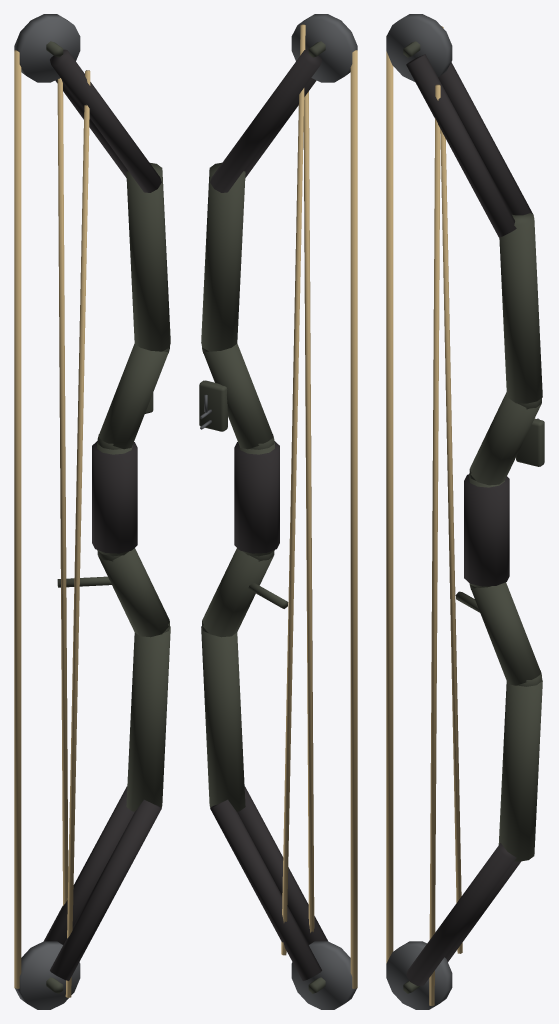
The model's file is item_compound_bow.glb.
3 renders of one model, left to right at view 1: azimuth 30°, elevation 25°; view 2: azimuth 150°, elevation 25°; view 3: azimuth 330°, elevation 25°, orthographic.
Visible parts, largest first — view 1: string, riser_0, riser_4, cable_0, cable_1, grip, limb_0_0, riser_3, limb_1_0, riser_1, cam_1, limb_0_1 (+3 smaller); view 2: string, riser_0, riser_4, cable_1, cable_0, grip, limb_0_1, limb_1_1, riser_3, riser_1, limb_0_0, cam_1 (+4 smaller); view 3: string, riser_4, riser_0, cable_0, grip, cable_1, limb_1_0, riser_1, limb_0_0, riser_3, limb_1_1, cam_1 (+3 smaller).
Part boxes in pixels (box(x1,y1,x2,y2)): string: box(14, 50, 21, 988); riser_0: box(126, 626, 170, 811); riser_4: box(126, 163, 170, 351); cable_0: box(65, 70, 90, 997); cable_1: box(57, 78, 68, 905); grip: box(92, 441, 137, 553); limb_0_0: box(50, 799, 161, 980); riser_3: box(98, 343, 168, 449); limb_1_0: box(50, 49, 161, 192); riser_1: box(98, 548, 169, 637); cam_1: box(14, 14, 80, 82); limb_0_1: box(44, 786, 134, 944); string: box(350, 50, 357, 988); riser_0: box(201, 626, 245, 811); riser_4: box(201, 162, 245, 351); cable_1: box(281, 24, 305, 955); cable_0: box(303, 91, 314, 932); grip: box(234, 441, 279, 553); limb_0_1: box(210, 799, 321, 980); limb_1_1: box(210, 49, 321, 192); riser_3: box(203, 343, 273, 449); riser_1: box(202, 548, 273, 637); limb_0_0: box(237, 786, 327, 944); cam_1: box(291, 14, 357, 82); string: box(386, 51, 393, 963); riser_4: box(499, 213, 542, 403); riser_0: box(498, 678, 542, 861); cable_0: box(429, 84, 440, 1006); grip: box(464, 474, 509, 586); cable_1: box(440, 26, 462, 953); limb_1_0: box(406, 54, 516, 237); riser_1: box(471, 582, 541, 685); limb_0_0: box(406, 843, 516, 985); riser_3: box(470, 392, 541, 485); limb_1_1: box(438, 62, 532, 215); cam_1: box(386, 14, 452, 81).
Size of the model in its own units: 0.1823 by 1.12 by 0.0725.
